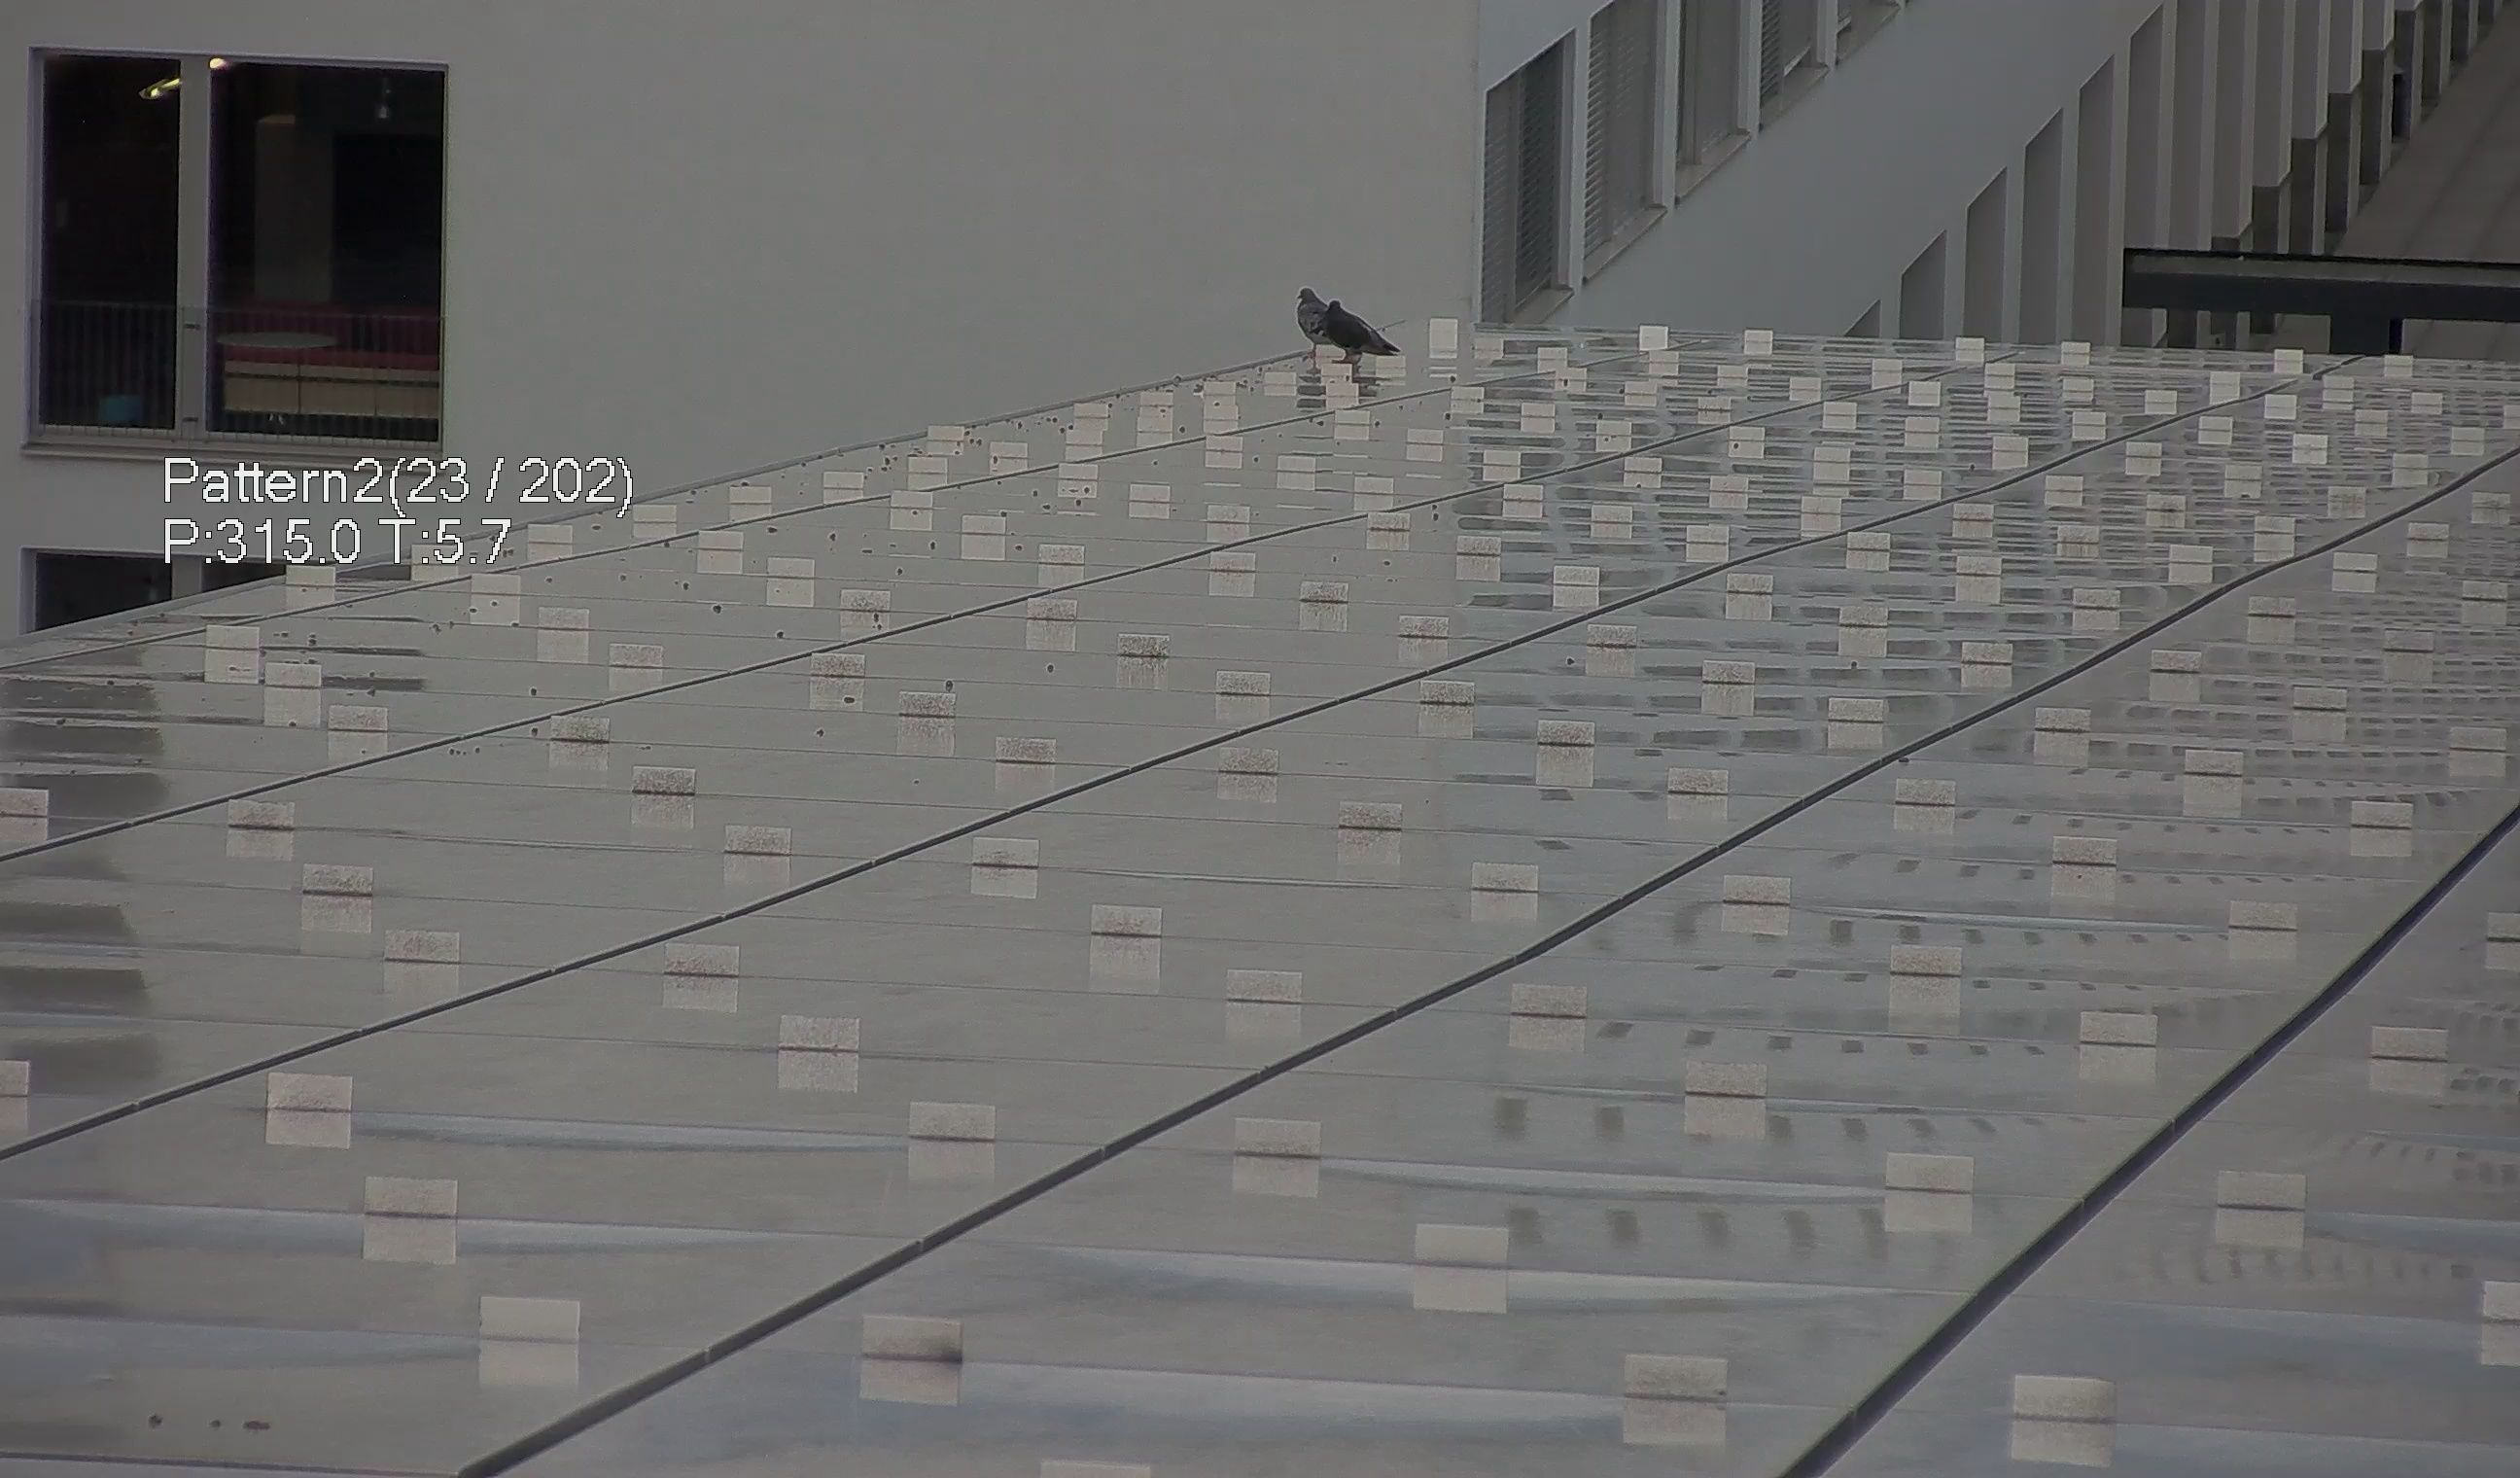Pigeon: (1314, 283, 1409, 375), (1291, 276, 1358, 369)
